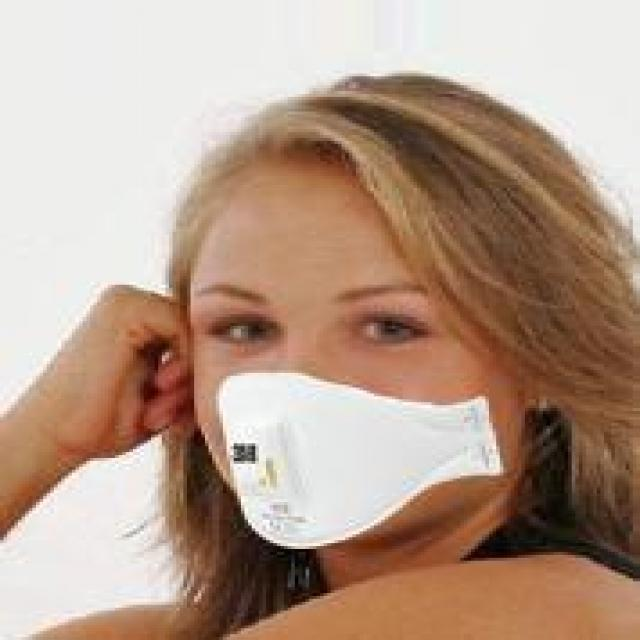mask: (165, 67, 615, 596)
